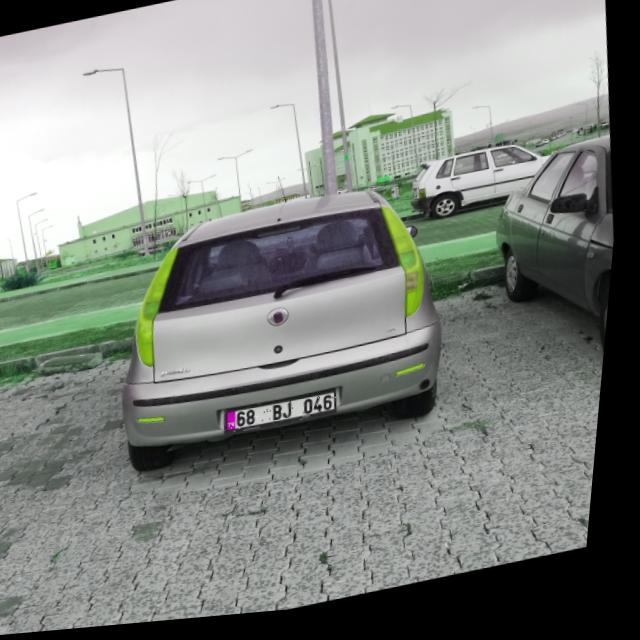license_plate: (232, 397, 346, 438)
